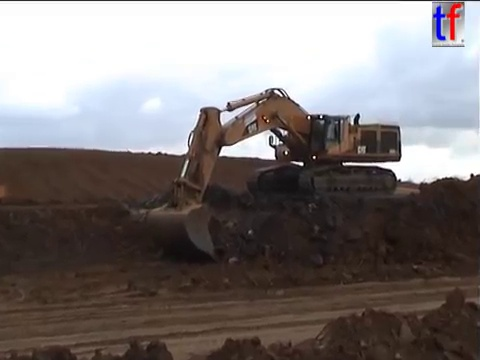truck: (143, 85, 405, 263), (1, 181, 10, 205)
